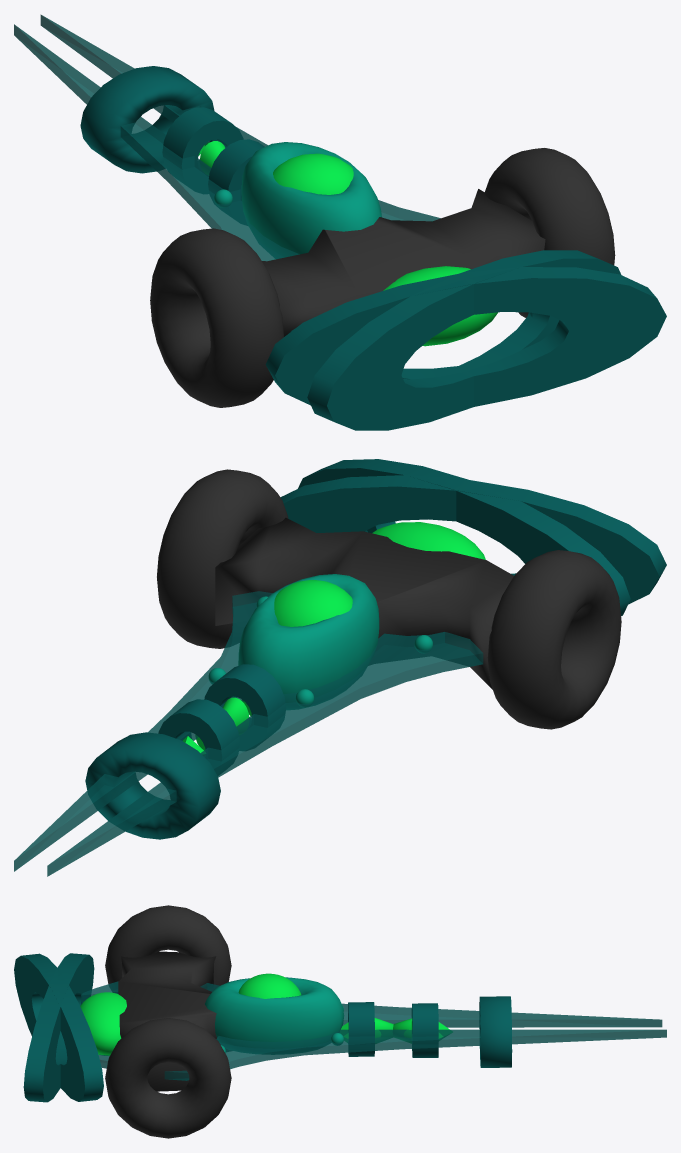
The model's file is player_ship_austin.fbx.
The picture shows the model from 3 angles, top to bottom: view 1: azimuth 30°, elevation 25°; view 2: azimuth 150°, elevation 25°; view 3: azimuth 270°, elevation 25°; orthographic projection. The views are drawn at different scales.
Parts seen in each view (by area): view 1: polySurface49; view 2: polySurface49; view 3: polySurface49.
Boxes of the visible parts, x1=… form: polySurface49: x1=14, y1=14, x2=666, y2=430; polySurface49: x1=14, y1=459, x2=666, y2=876; polySurface49: x1=14, y1=905, x2=666, y2=1138.
Bounding box in the file's own units: 6.22 × 2.47 × 12.71.
